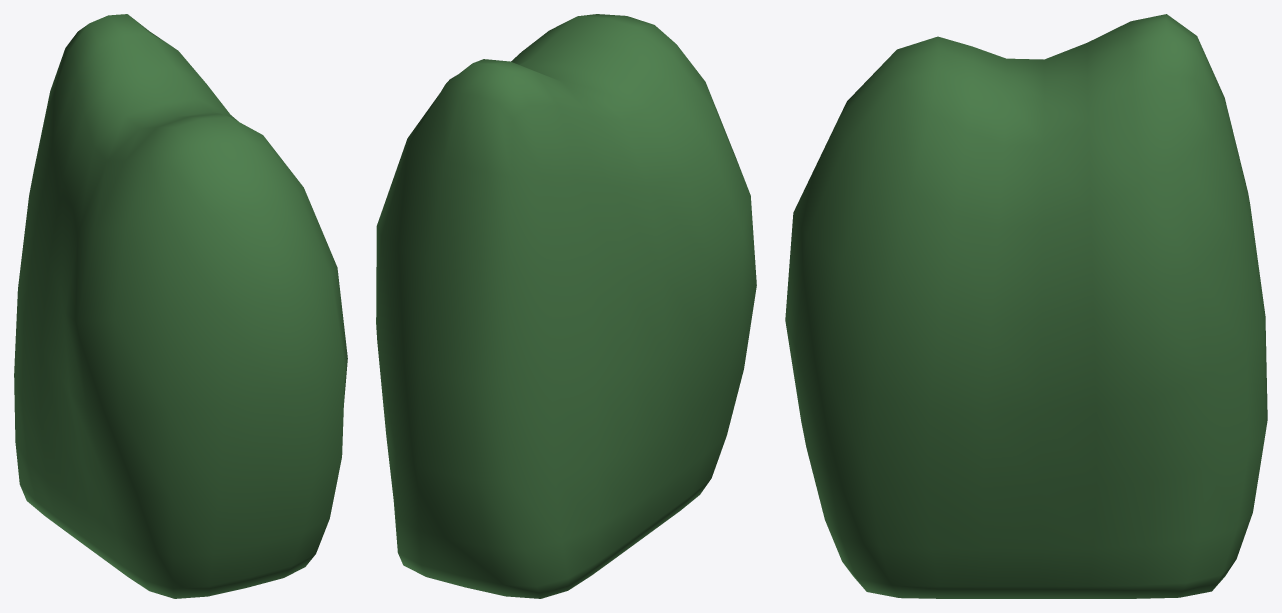
The model's file is Hedge1_low.fbx.
3 views of the same model, side by side, from view 1: azimuth 30°, elevation 25°; view 2: azimuth 150°, elevation 25°; view 3: azimuth 270°, elevation 25° (orthographic). The views are drawn at different scales.
Parts seen in each view (by area): view 1: Hedge.001_low; view 2: Hedge.001_low; view 3: Hedge.001_low.
Boxes of the visible parts, x1=… form: Hedge.001_low: x1=14, y1=14, x2=347, y2=598; Hedge.001_low: x1=376, y1=14, x2=756, y2=598; Hedge.001_low: x1=785, y1=14, x2=1267, y2=598.
Bounding box in the file's own units: 56.28 × 101 × 82.38.
